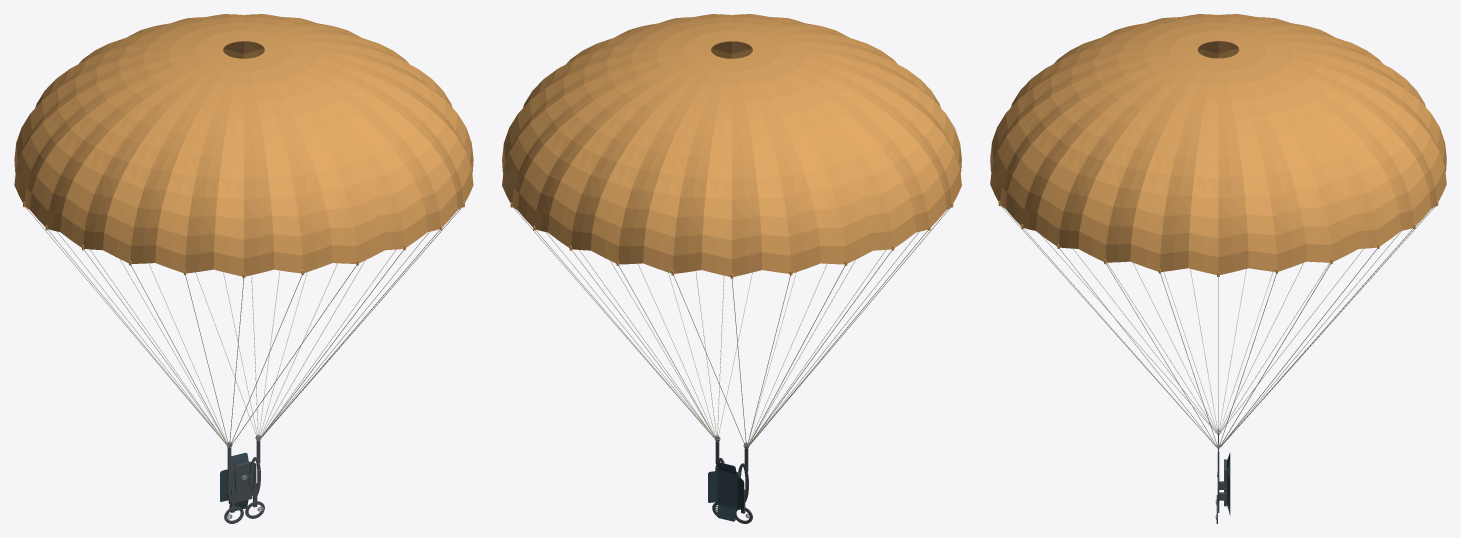
3 views of the same model, side by side, from view 1: azimuth 30°, elevation 25°; view 2: azimuth 150°, elevation 25°; view 3: azimuth 270°, elevation 25° (orthographic).
Visible parts, largest first — view 1: Complete double-wall 24-gore canopy, Back_pad; view 2: Complete double-wall 24-gore canopy, Pack_lining; view 3: Complete double-wall 24-gore canopy.
Part boxes in pixels (x1,y1,x2,y2): Complete double-wall 24-gore canopy: (14, 14, 473, 276); Back_pad: (228, 461, 252, 504); Complete double-wall 24-gore canopy: (502, 14, 961, 276); Pack_lining: (716, 468, 738, 509); Complete double-wall 24-gore canopy: (990, 14, 1446, 274).
Size of the model in its own units: 6.06 by 6.85 by 6.06.
